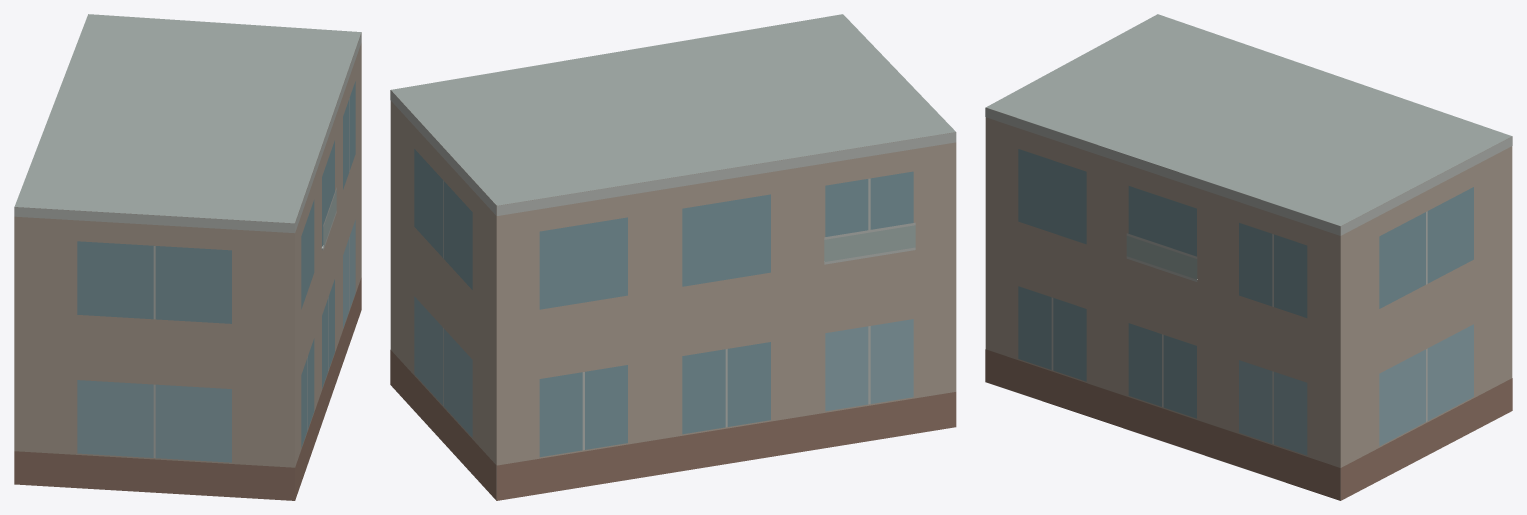
The model's file is survey-upis-32489908.glb.
The picture shows the model from 3 angles, left to right: view 1: azimuth 30°, elevation 25°; view 2: azimuth 150°, elevation 25°; view 3: azimuth 270°, elevation 25°; orthographic projection. The views are drawn at different scales.
Parts seen in each view (by area): view 1: survey-upis-32489908.tmp; view 2: survey-upis-32489908.tmp; view 3: survey-upis-32489908.tmp.
Part boxes in pixels (x1,y1,x2,y2): survey-upis-32489908.tmp: [14, 14, 361, 500]; survey-upis-32489908.tmp: [390, 14, 956, 500]; survey-upis-32489908.tmp: [985, 14, 1512, 500].
Bounding box in the file's own units: 11.45 × 6.9 × 12.01.
